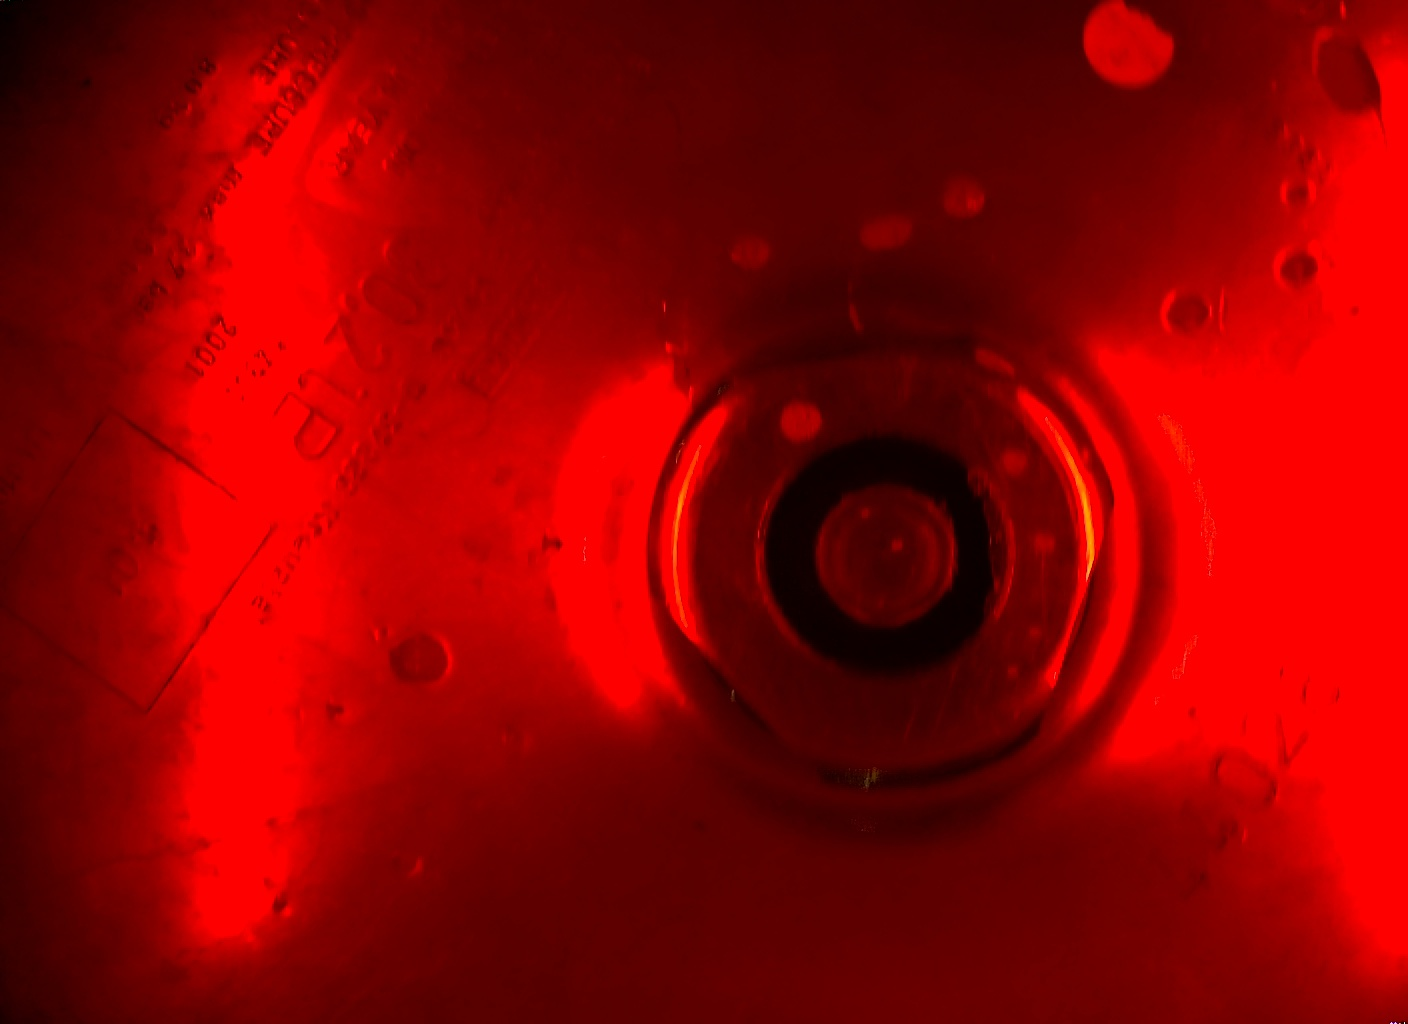pena: (951, 395, 1078, 698), (378, 616, 467, 701), (1150, 269, 1219, 349), (1260, 232, 1331, 294), (934, 169, 1006, 228), (850, 201, 919, 258), (723, 229, 772, 287), (776, 398, 825, 450), (856, 501, 878, 528), (885, 535, 912, 554)
